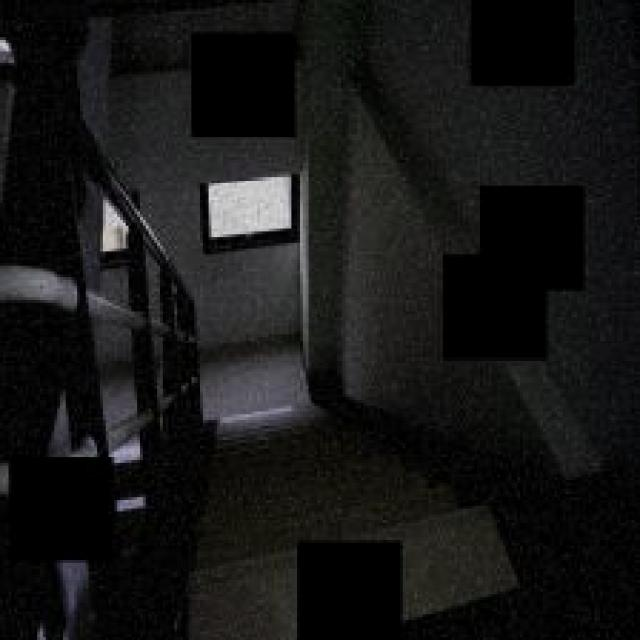downstair: (207, 418, 410, 521)
